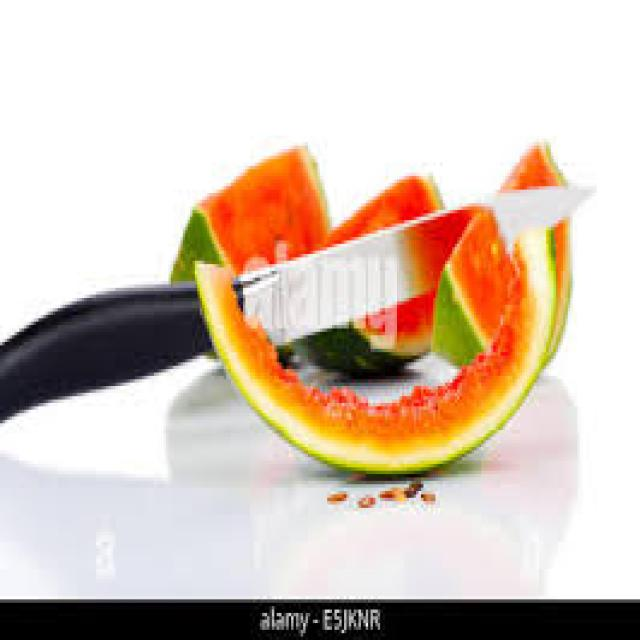Knife: (0, 172, 594, 457)
